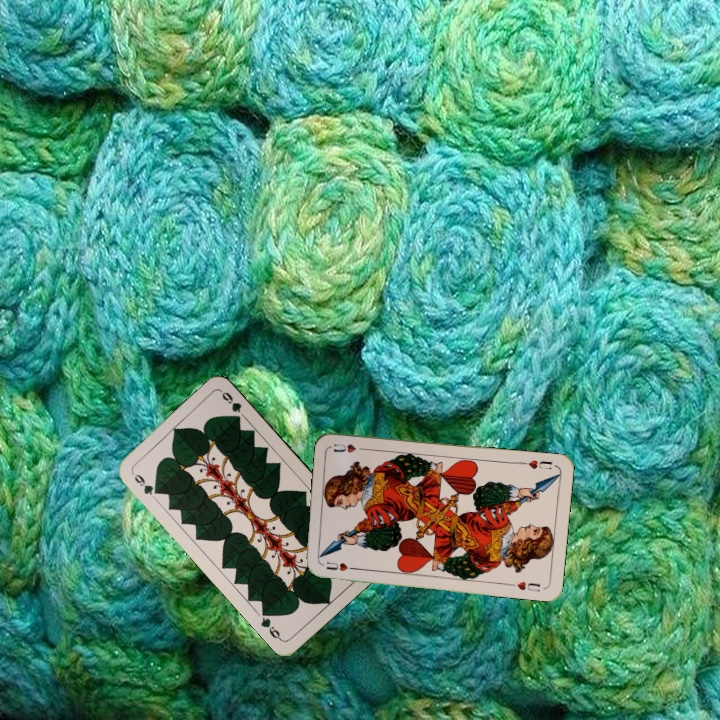G9: (128, 468, 162, 497)
HU: (517, 456, 555, 472), (322, 558, 350, 574)
